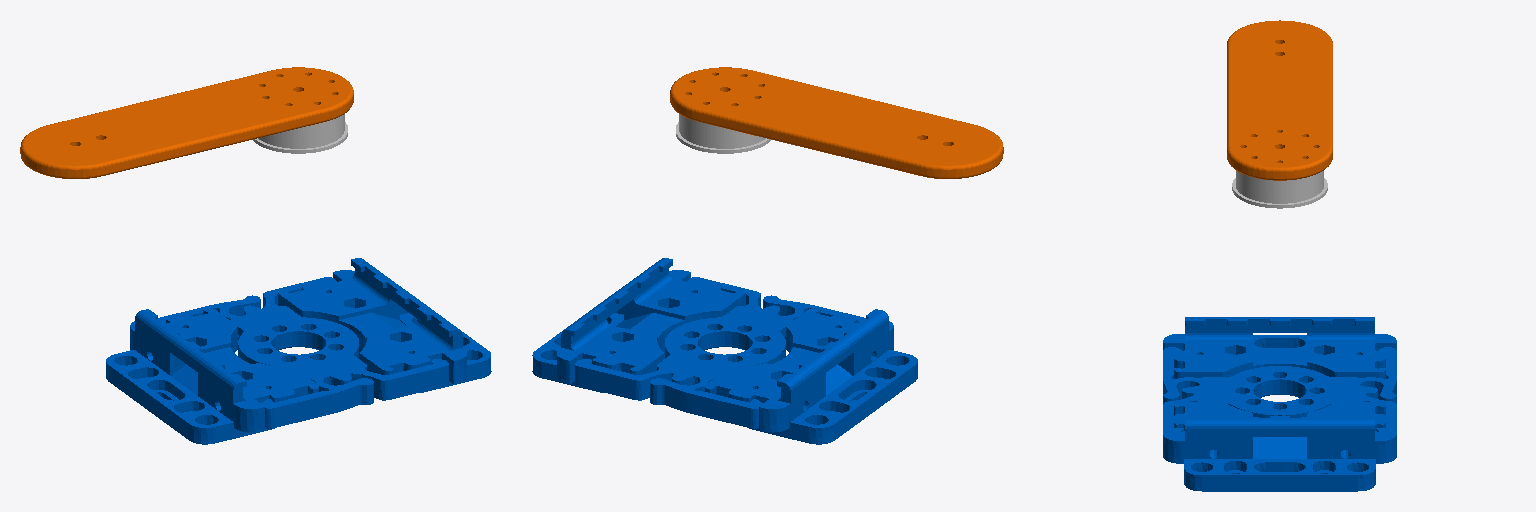
robot.urdf — simpleCube:
<?xml version="1.0"?>
<robot name="simpleCube">

    <link name="world">
    </link> 
    
    <joint name="dummy_base" type="floating">
        <origin xyz="0 0 0" rpy="0 0 0"/>
        <parent link="world"/>
        <child link="cube_base"/>
    </joint>

    <link name="cube_base">
        <inertial>
            <origin xyz="0 0 0" rpy="0 0 0"/>
            <mass value="1.0"/>
            <inertia ixx="0.001" iyy="0.001" izz="0.001" ixy="0" ixz="0" iyz="0"/>
        </inertial>
        <visual>
            <origin xyz="0 0 0" rpy="0 0 0"/>
            <geometry>
				<mesh filename="package://example-robot-data/robots/simplecube_description/meshes/qb_meshes/dae/qb_base_flange_m.dae" />
            </geometry>	
        </visual> 
		<visual>
            <origin xyz="0 0 0" rpy="0 0 0"/>
            <geometry>
				<mesh filename="package://example-robot-data/robots/simplecube_description/meshes/qb_meshes/dae/qbmove_frame_m.dae" />
            </geometry>	
        </visual>
        <collision>
            <origin xyz="0 0 0" rpy="0 0 0"/>
            <geometry>
                <mesh filename="package://example-robot-data/robots/simplecube_description/meshes/qb_meshes/stl/qbmove_frame_m.stl" />
            </geometry> 
        </collision>
        <collision>
            <origin xyz="0 0 0" rpy="0 0 0"/>
            <geometry>
                <mesh filename="package://example-robot-data/robots/simplecube_description/meshes/qb_meshes/stl/qb_base_flange_m.stl" />
            </geometry> 
        </collision>
    </link>

    <joint name="J1" type="revolute">
        <origin xyz="0 0 0.033" rpy="0 0 0"/>
        <parent link="cube_base"/>
        <child link="Link1"/>
		<limit effort="300" velocity="100" lower="-3.14" upper="3.14" />
        <axis xyz="0 0 1"/>
    </joint>

    <link name="Link1"> 
        <inertial>
            <origin xyz="-0.035 0 0.038" rpy="0 0 0"/>
            <mass value="0.20"/>
            <inertia ixx="0.001" iyy="0.001" izz="0.001" ixy="0" ixz="0" iyz="0"/>
        </inertial>	
        <visual>
            <origin xyz="0 0 0.022" rpy="1.57 0 0"/>
            <geometry>
                <mesh filename="package://example-robot-data/robots/simplecube_description/meshes/qb_meshes/dae/qbmove_pulley_m.dae" />
            </geometry>		
        </visual>
		<visual>
            <origin xyz="-0.035 0 0.038" rpy="0 0 0"/>
            <geometry>
                <mesh filename="package://example-robot-data/robots/simplecube_description/meshes/onedof/dae/demoshaft.dae" />
            </geometry>		
        </visual>
        <collision>
            <origin xyz="-0.035 0 0.038" rpy="0 0 0"/>
            <geometry>
                <mesh filename="package://example-robot-data/robots/simplecube_description/meshes/onedof/demoshaft.stl" />
            </geometry> 
        </collision>
    </link>  

    <gazebo>
        <self_collide>1</self_collide>
    </gazebo>

    <gazebo>
        <plugin name="advanced_vsa_j1" filename="libadvanced_plugin.so">
            <joint>J1</joint>
            <control_type>1</control_type>
            <pub_eltau>false</pub_eltau>
            <pub_state>true</pub_state>
            <sub_ext_tau>false</sub_ext_tau>
        </plugin>
    </gazebo>
</robot>

--- What the picture shows (computed from the rendered views, not written in the file) ---
3 views of the same robot in one strip: view 1: azimuth 30°, elevation 25°; view 2: azimuth 150°, elevation 25°; view 3: azimuth 270°, elevation 25° (orthographic).
Robot: simpleCube — 3 links, 2 joints (1 revolute, 1 floating); root link world; default pose: all joints at 0.
Links seen in each view (by area): view 1: cube_base, Link1; view 2: cube_base, Link1; view 3: cube_base, Link1.
Link boxes in pixels (x1,y1,x2,y2): cube_base: (106,258,491,444); Link1: (20,67,353,178); cube_base: (532,258,917,444); Link1: (670,67,1003,178); cube_base: (1163,317,1396,491); Link1: (1227,20,1332,208).
Bounding box of the posed robot: 0.132 × 0.066 × 0.0855 m (x, y, z).
3 mesh visuals loaded from 4 distinct referenced files (3 Collada DAE); not drawn: 1 (reference not matched to a file when rendering).